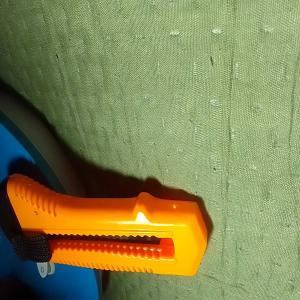estilete: (0, 174, 208, 279)
